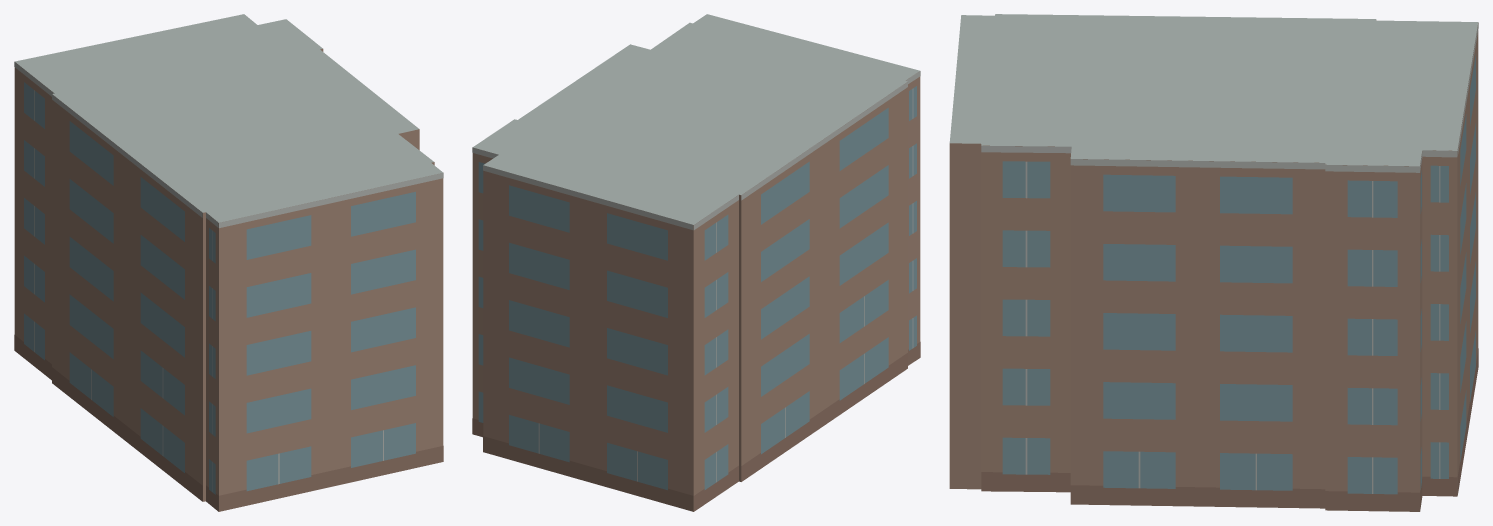
Rendered from survey-upis-32654053.glb.
3 renders of one model, left to right at view 1: azimuth 30°, elevation 25°; view 2: azimuth 150°, elevation 25°; view 3: azimuth 270°, elevation 25°, orthographic. The views are drawn at different scales.
Parts seen in each view (by area): view 1: survey-upis-32654053.tmp; view 2: survey-upis-32654053.tmp; view 3: survey-upis-32654053.tmp.
Boxes of the visible parts, x1=… form: survey-upis-32654053.tmp: x1=14, y1=14, x2=443, y2=511; survey-upis-32654053.tmp: x1=472, y1=14, x2=920, y2=511; survey-upis-32654053.tmp: x1=949, y1=14, x2=1478, y2=511.
Bounding box in the file's own units: 12.11 × 12.8 × 17.76.
